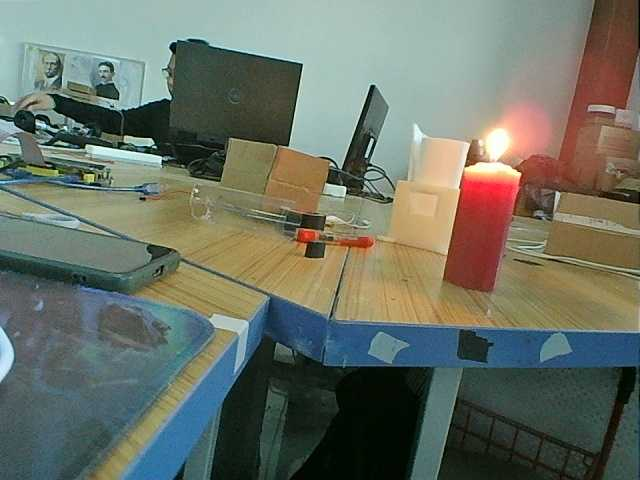candle: (454, 156, 522, 298)
fire: (466, 125, 528, 182)
